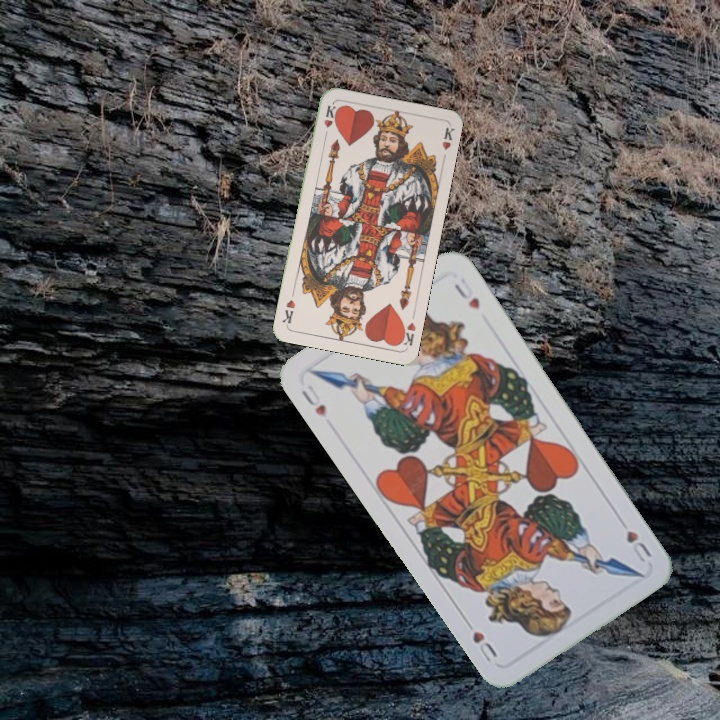HK: (320, 101, 339, 141), (395, 318, 418, 348)
HU: (622, 526, 654, 565), (297, 381, 329, 419)
